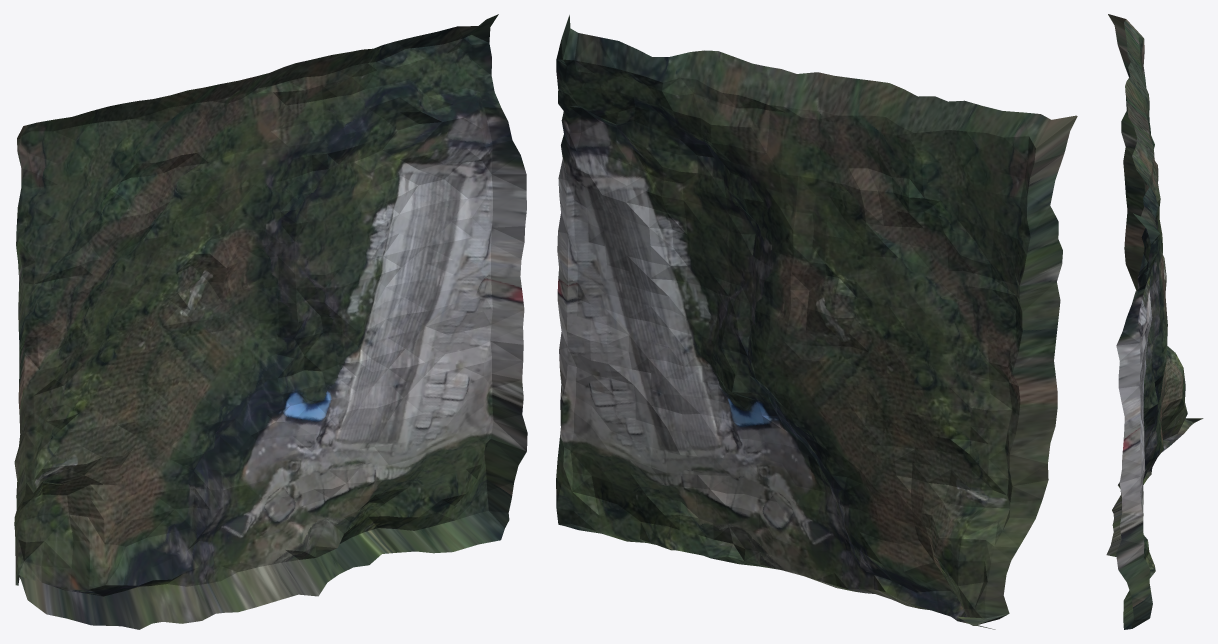
The model's file is refine_rgb.obj.
3 renders of one model, left to right at view 1: azimuth 30°, elevation 25°; view 2: azimuth 150°, elevation 25°; view 3: azimuth 270°, elevation 25°, orthographic. The views are drawn at different scales.
Size of the model in its own units: 333 by 329 by 67.92.
Materials: 1 (1 with a texture image).
